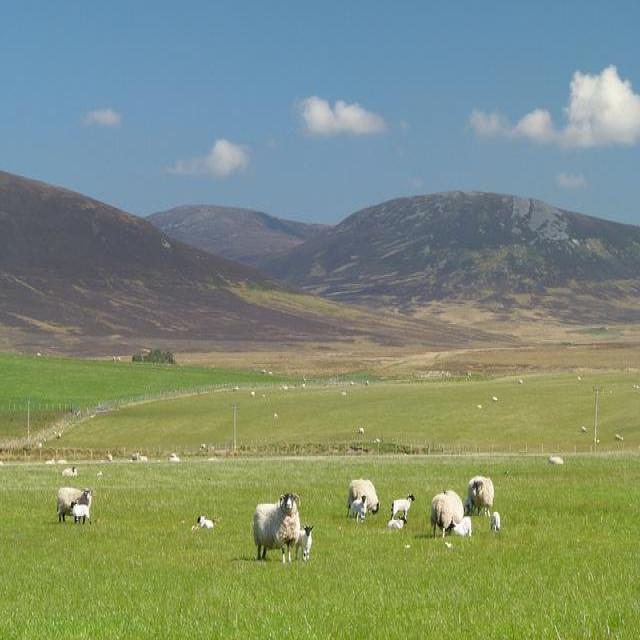Sheep: (33, 373, 639, 540), (256, 492, 303, 573), (430, 491, 465, 540)
